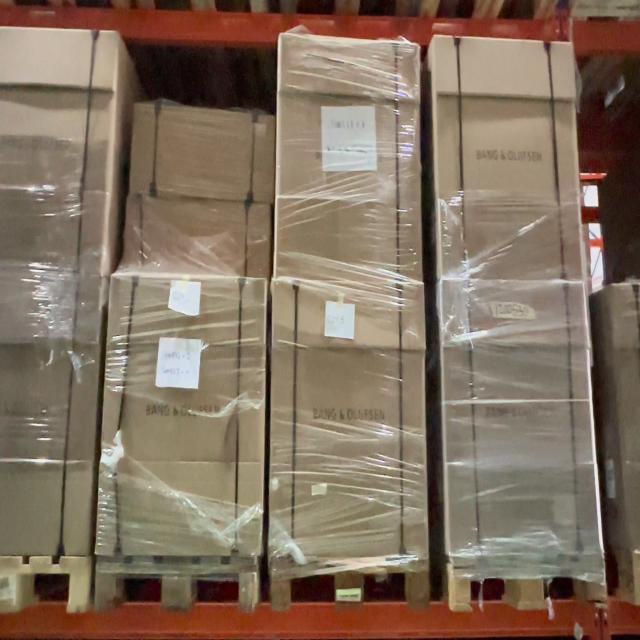box: (442, 288, 600, 553), (274, 284, 428, 550), (113, 283, 262, 537), (434, 45, 584, 275), (274, 41, 410, 260), (132, 103, 265, 203), (125, 202, 270, 278)
